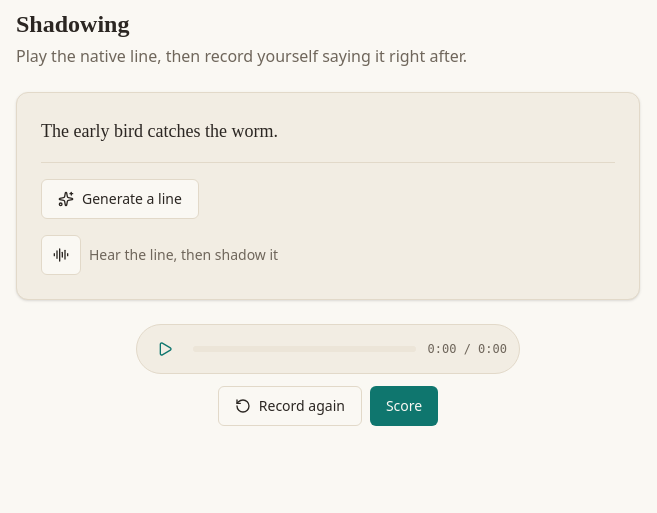
Test: Shadowing › should surface the too-weak reason instead of the generic failure
Click the button "Score" at (404, 406), box [370,386,438,426]
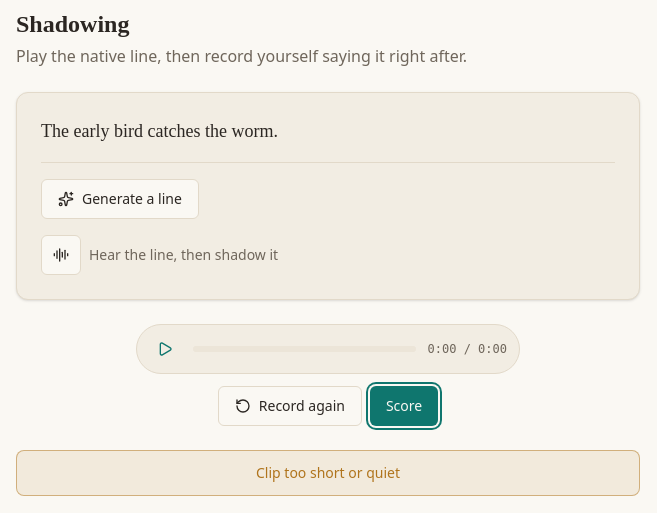
Check: the message shows "too short or quiet", box [256,463,400,482]
